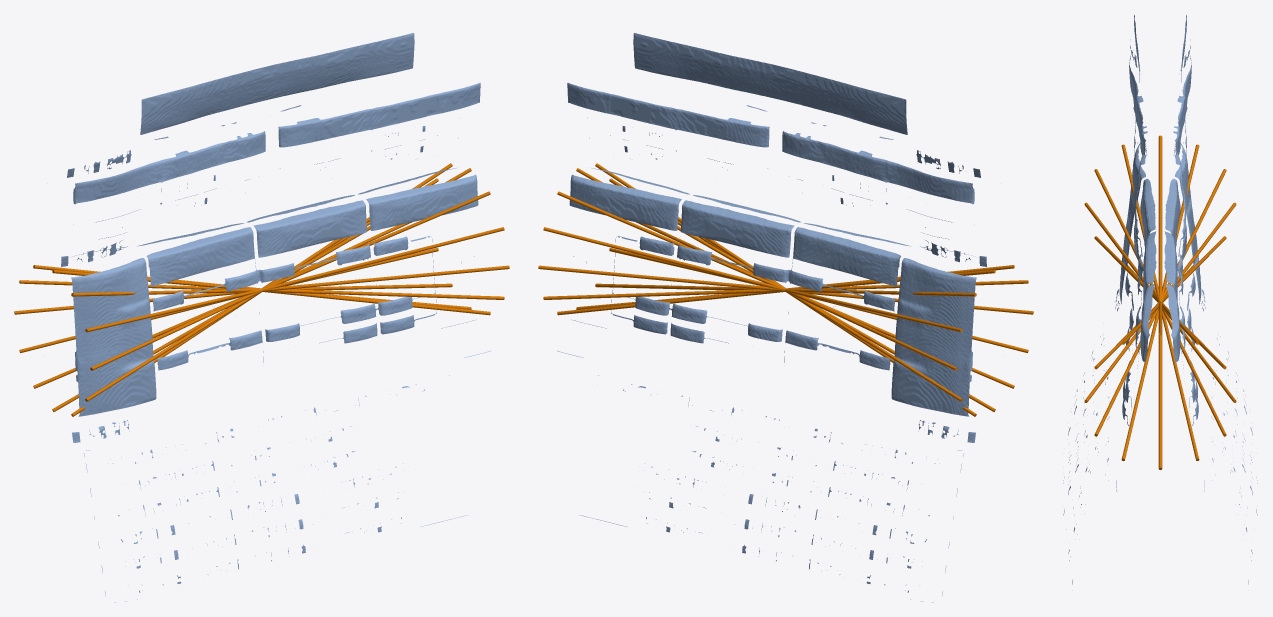
The model's file is Q25041775_6150-37-539-6884_DigitalTwin.glb.
The picture shows the model from 3 angles, left to right: view 1: azimuth 30°, elevation 25°; view 2: azimuth 150°, elevation 25°; view 3: azimuth 270°, elevation 25°; orthographic projection. The views are drawn at different scales.
Parts seen in each view (by area): view 1: world; view 2: world; view 3: world.
Boxes of the visible parts, x1,y1,x2,y2 form: world: (14, 33, 509, 602); world: (538, 33, 1033, 602); world: (1063, 15, 1257, 584).
Bounding box in the file's own units: 555 × 588 × 234.
